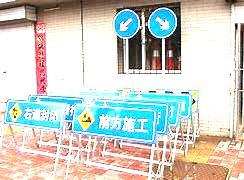sign: (75, 105, 153, 138), (5, 101, 60, 126)
